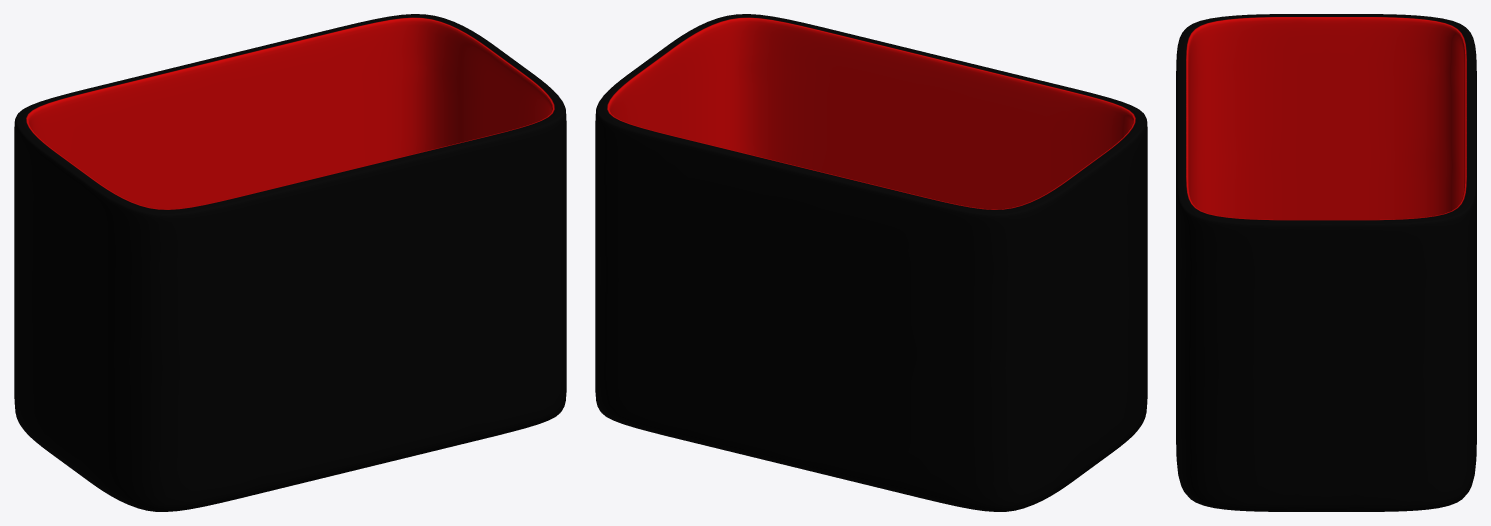
The model's file is Tank.fbx.
3 renders of one model, left to right at view 1: azimuth 30°, elevation 25°; view 2: azimuth 150°, elevation 25°; view 3: azimuth 270°, elevation 25°, orthographic. The views are drawn at different scales.
Visible parts, largest first — view 1: Tank; view 2: Tank; view 3: Tank.
Boxes of the visible parts, bbox=[...] form: Tank: bbox=[14, 14, 566, 511]; Tank: bbox=[595, 14, 1147, 511]; Tank: bbox=[1176, 14, 1476, 511].
Size of the model in its own units: 50 by 31.99 by 30.
